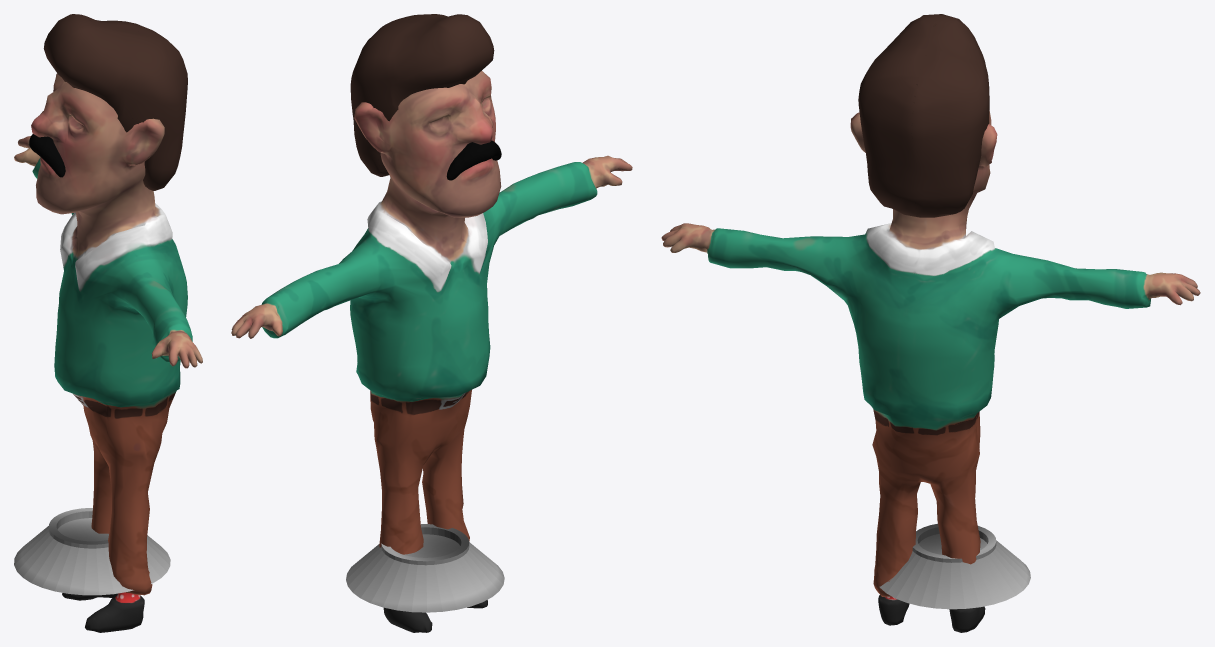
File: Murphy Distraction.fbx
The picture shows the model from 3 angles, left to right: view 1: azimuth 30°, elevation 25°; view 2: azimuth 150°, elevation 25°; view 3: azimuth 270°, elevation 25°; orthographic projection. The views are drawn at different scales.
Visible parts, largest first — view 1: Moustache.001; view 2: Moustache.001; view 3: Moustache.001.
Boxes of the visible parts, <box> form: Moustache.001: <box>14,14,202,632</box>; Moustache.001: <box>231,14,632,632</box>; Moustache.001: <box>661,14,1200,632</box>.
Bounding box in the file's own units: 208 × 821 × 679.
